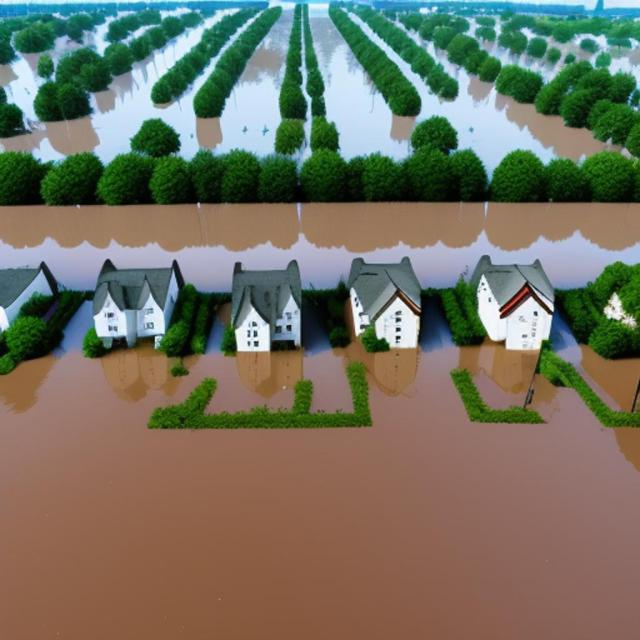flood: (0, 299, 640, 640), (0, 202, 640, 290), (310, 4, 624, 172), (0, 0, 293, 163), (552, 309, 640, 410), (481, 34, 640, 86), (83, 21, 109, 53), (48, 36, 80, 60), (468, 18, 479, 34), (161, 8, 185, 15), (525, 29, 534, 38), (496, 18, 502, 30), (108, 17, 114, 21)
house: (97, 257, 184, 352), (471, 255, 554, 353), (233, 257, 304, 357), (347, 261, 422, 353), (1, 259, 58, 350)
